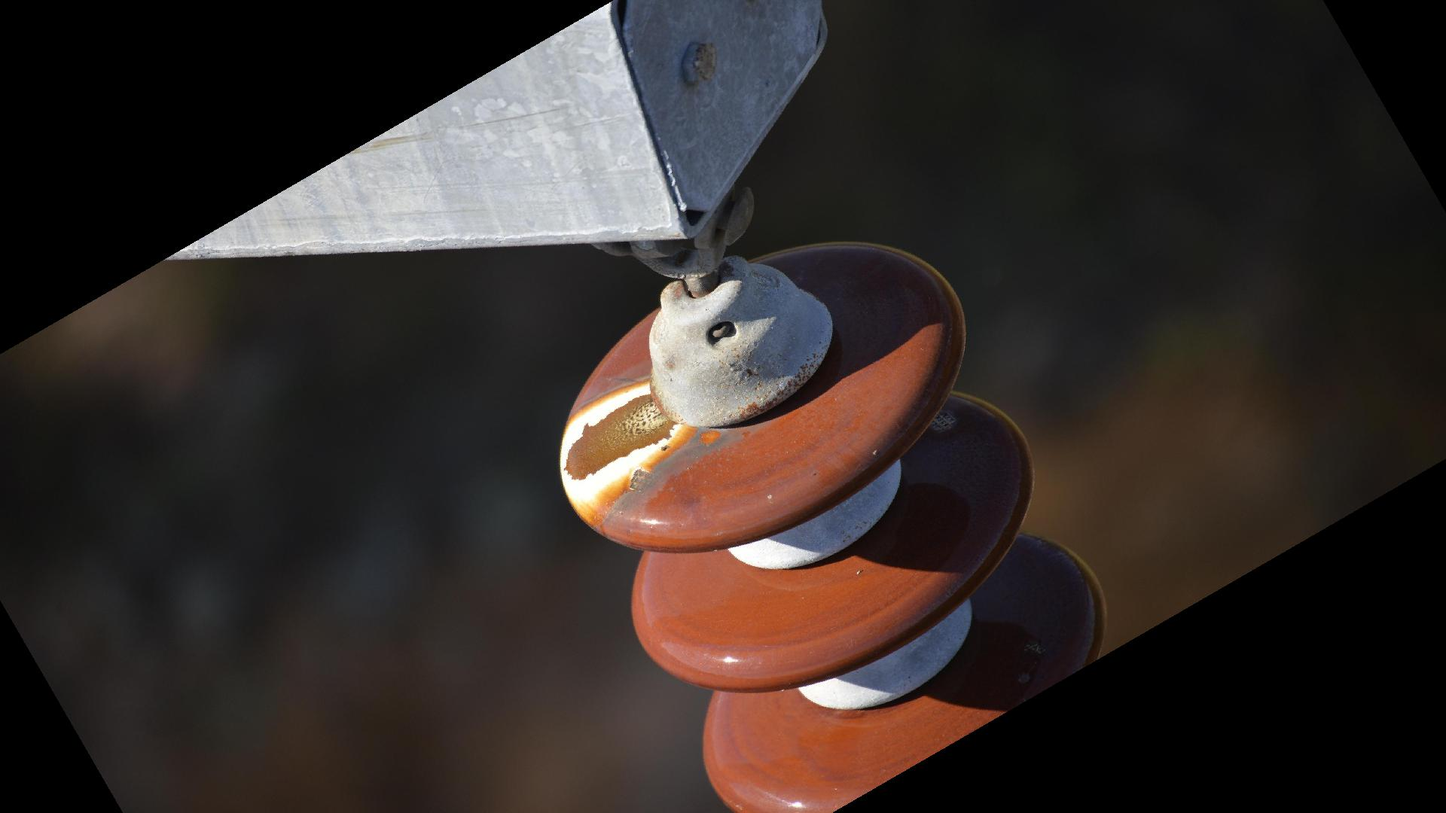insulator: (548, 233, 1115, 813)
insulator_flashover: (555, 372, 688, 532)
